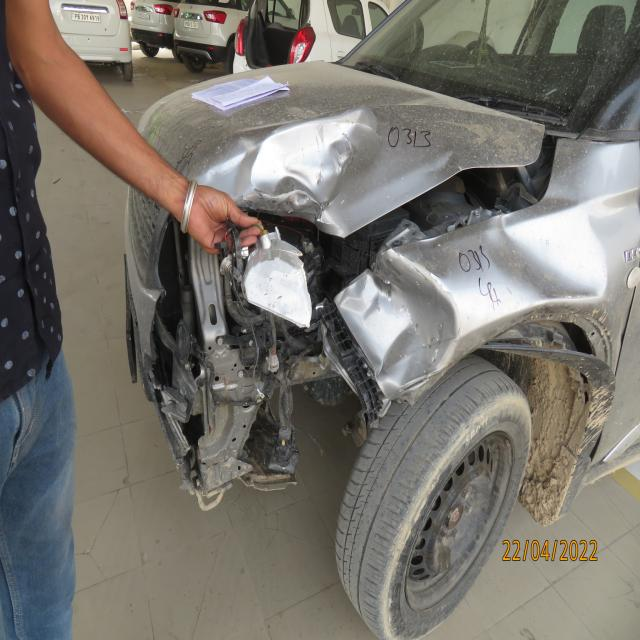damage: (346, 224, 619, 383), (218, 88, 532, 219), (151, 328, 290, 510), (478, 295, 622, 443), (135, 210, 180, 426)
